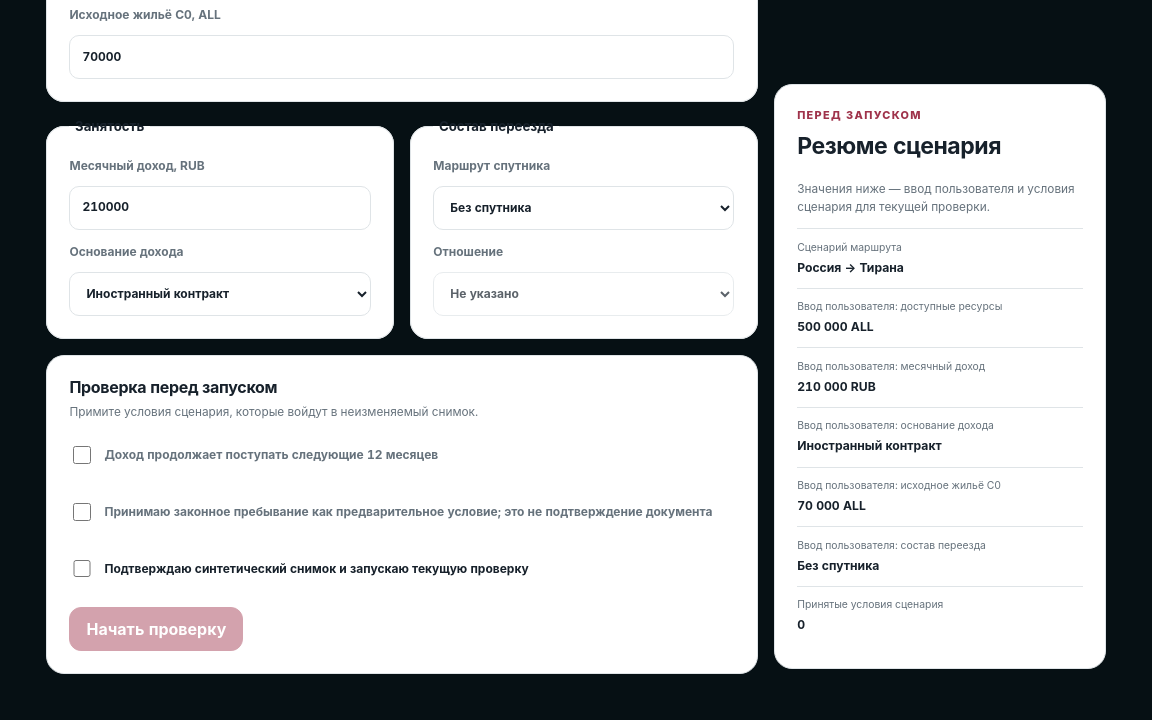
it: journey action pending states › does not expose dead destination controls during setup or its pending verification
(page scrolled)
Click the checkbox labelled "Подтверждаю синтетический снимок и запускаю текущую проверку" at [82, 569], box [74,560,91,577]
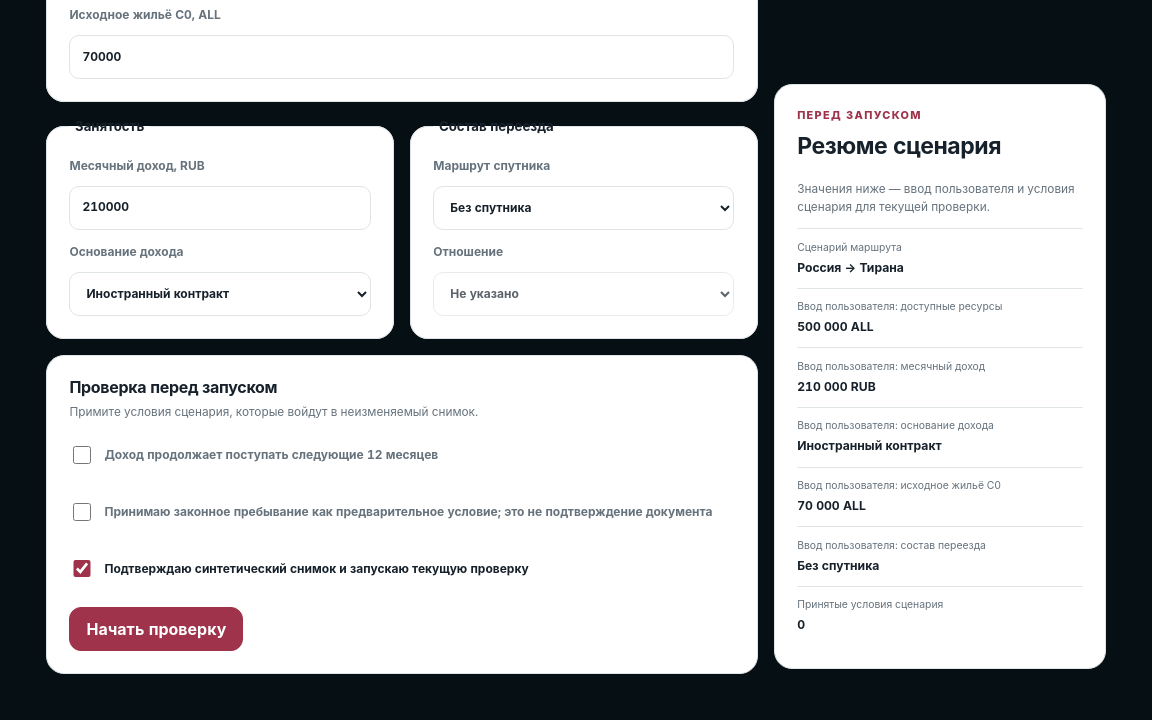
Click the button "Начать проверку" at [156, 629], box [70,607,243,651]
(page scrolled)
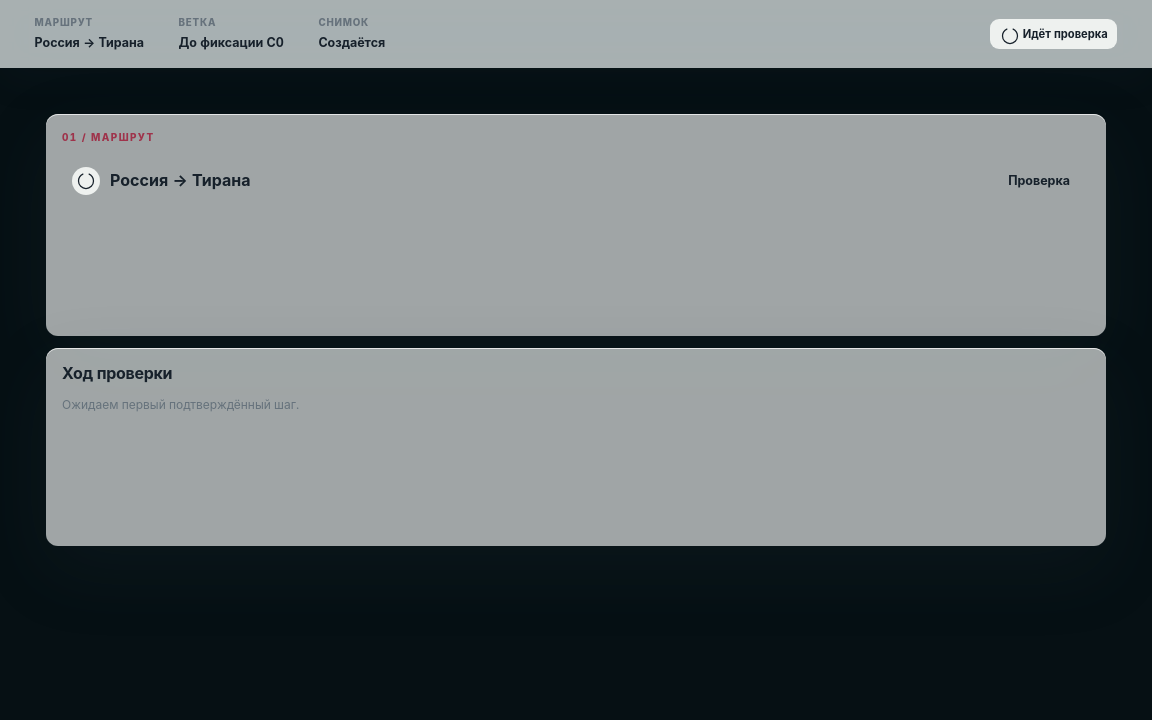
Expected: the element named "проверка маршрута" is shown
